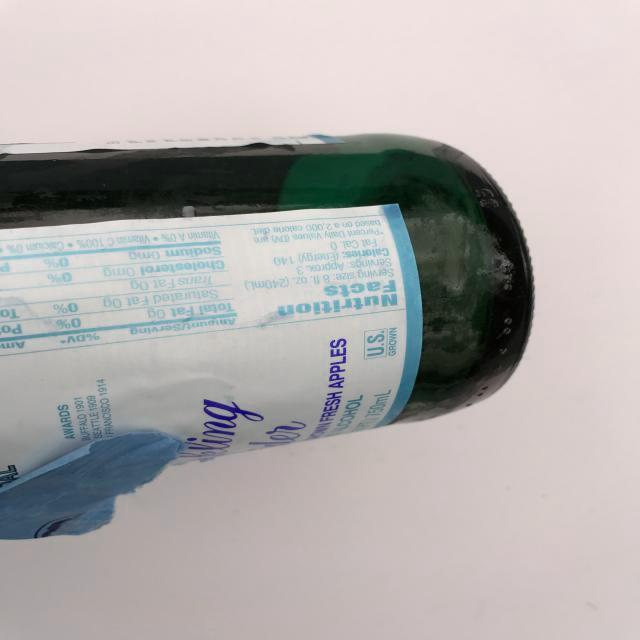glass: (0, 113, 546, 517)
